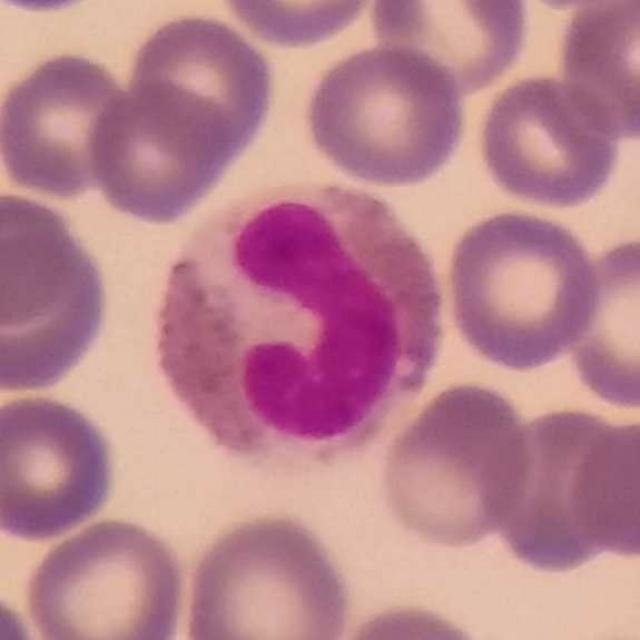eosino: (154, 176, 446, 475)
